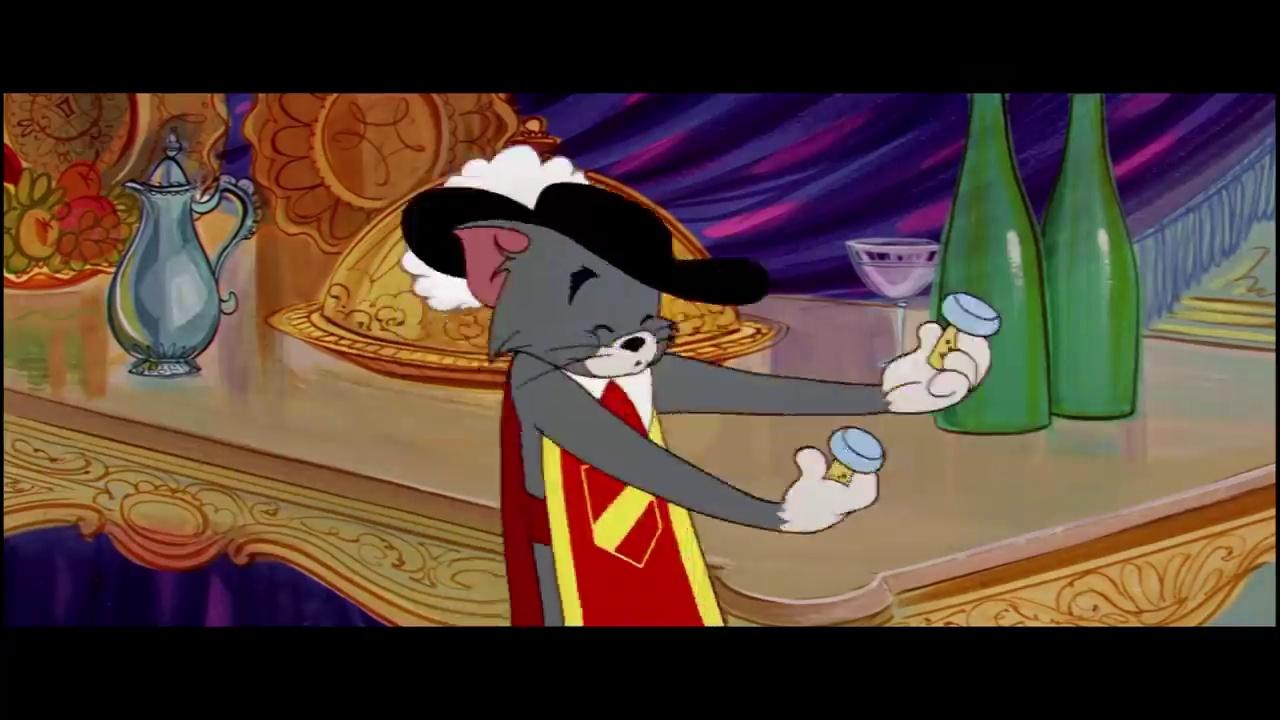Tom: (447, 218, 992, 628)
